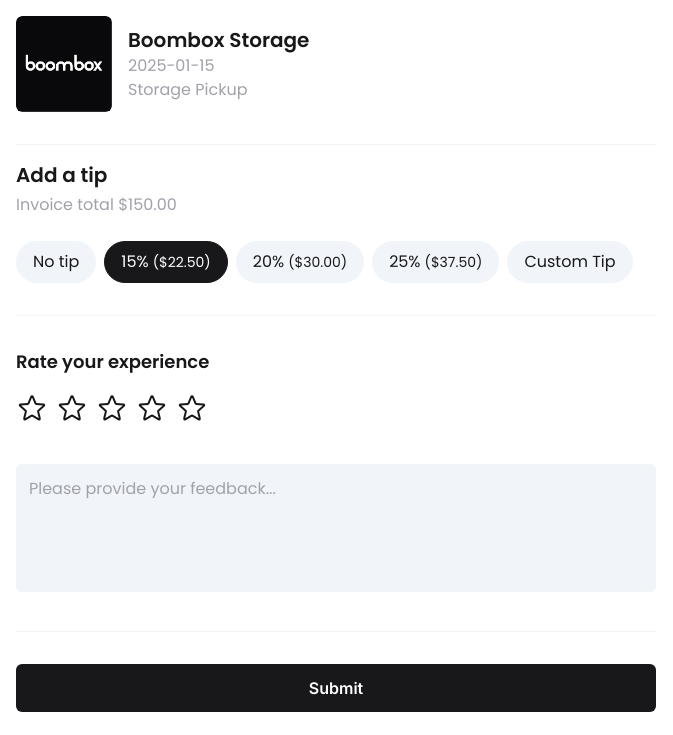
Test case: FeedbackForm › API Integration › handles API error gracefully
Expected: the button "Submit" is shown, [16,664,656,712]
# Provide rating and submit
What coordinates should you click on to do the following:
click the button named "Rate 5 out of 5 stars"
I would click on:
 (192, 408)
Its box is [176,392,208,424].
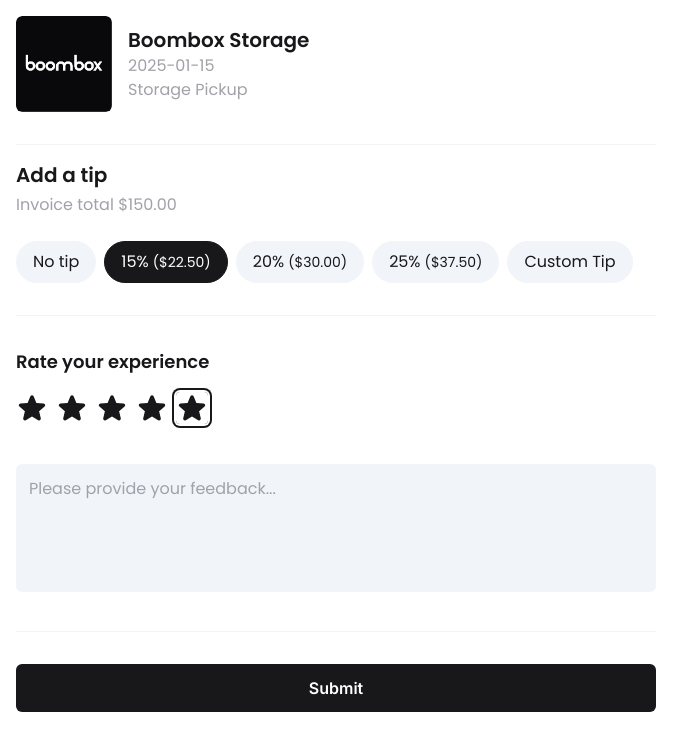
What coordinates should you click on to do the following:
click the button "Submit"
I would click on:
 (336, 688)
Its box is [16,664,656,712].
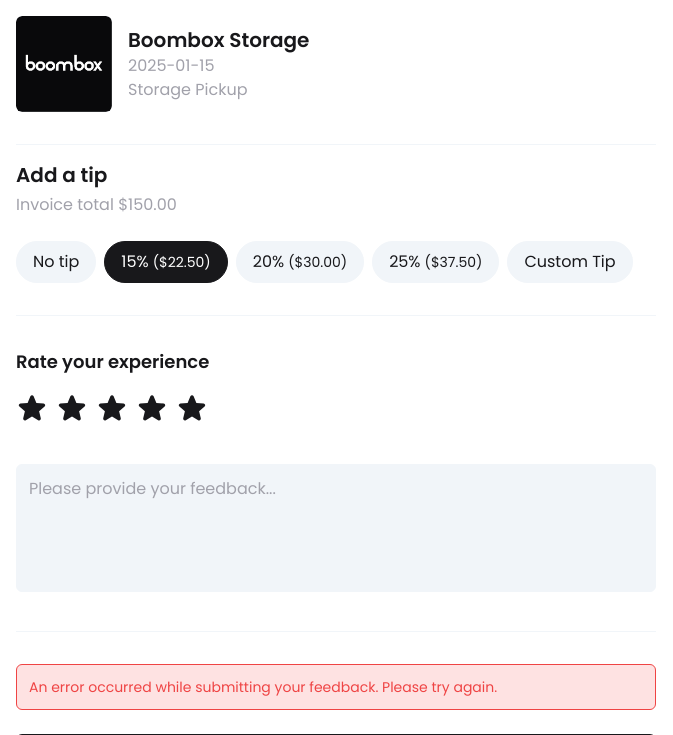
Expected: the message reads "An error occurred while submitting your feedback. Please try again.", [29,677,497,697]
